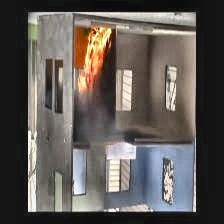fire: (83, 27, 112, 88)
smoke: (75, 97, 121, 162)
